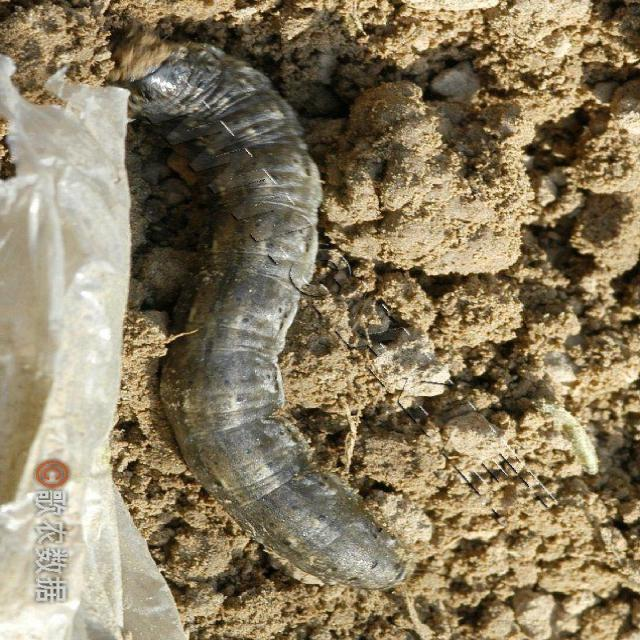black cutworm: (81, 34, 415, 601)
